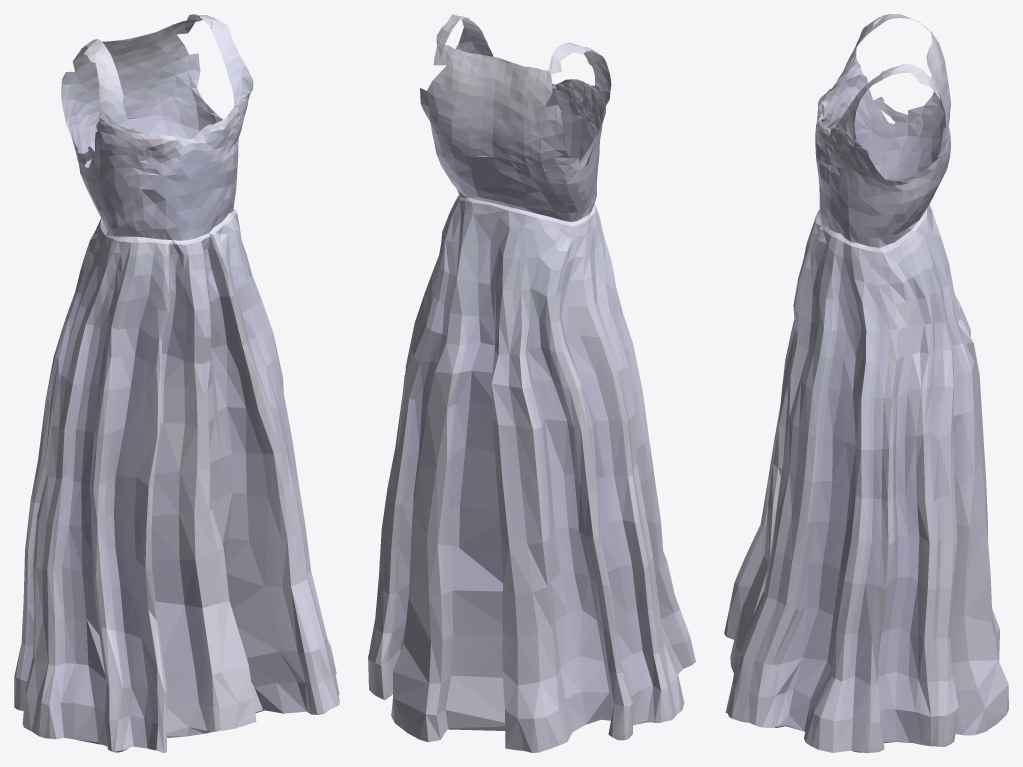
The model's file is ewm_t2angel_outfit.glb.
3 views of the same model, side by side, from view 1: azimuth 30°, elevation 25°; view 2: azimuth 150°, elevation 25°; view 3: azimuth 270°, elevation 25° (orthographic). The views are drawn at different scales.
Visible parts, largest first — view 1: ewm_t2angel_outfit; view 2: ewm_t2angel_outfit; view 3: ewm_t2angel_outfit.
Boxes of the visible parts, x1=… form: ewm_t2angel_outfit: x1=14, y1=14, x2=339, y2=752; ewm_t2angel_outfit: x1=368, y1=14, x2=695, y2=752; ewm_t2angel_outfit: x1=724, y1=14, x2=1008, y2=752.
Size of the model in its own units: 0.7266 by 1.61 by 0.6295.
1 material, 1 textured.
